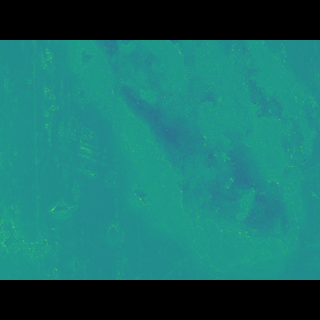Loch: (72, 69, 319, 246)
